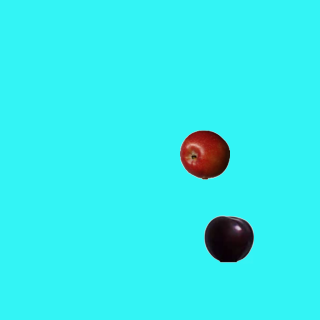Apple Braeburn: (179, 129, 229, 179)
Cherry Wax Black: (203, 213, 253, 263)
